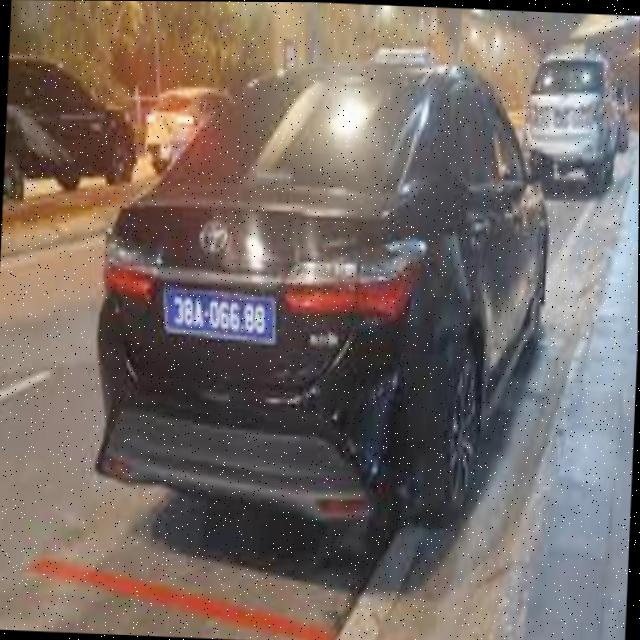car: (85, 50, 559, 540), (3, 44, 142, 212), (519, 51, 623, 192)
plate: (152, 283, 280, 345)
